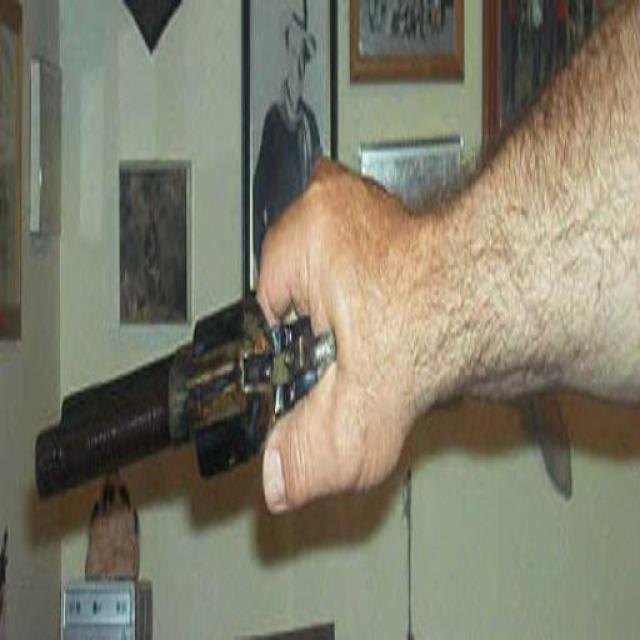pistol: (33, 260, 339, 530)
